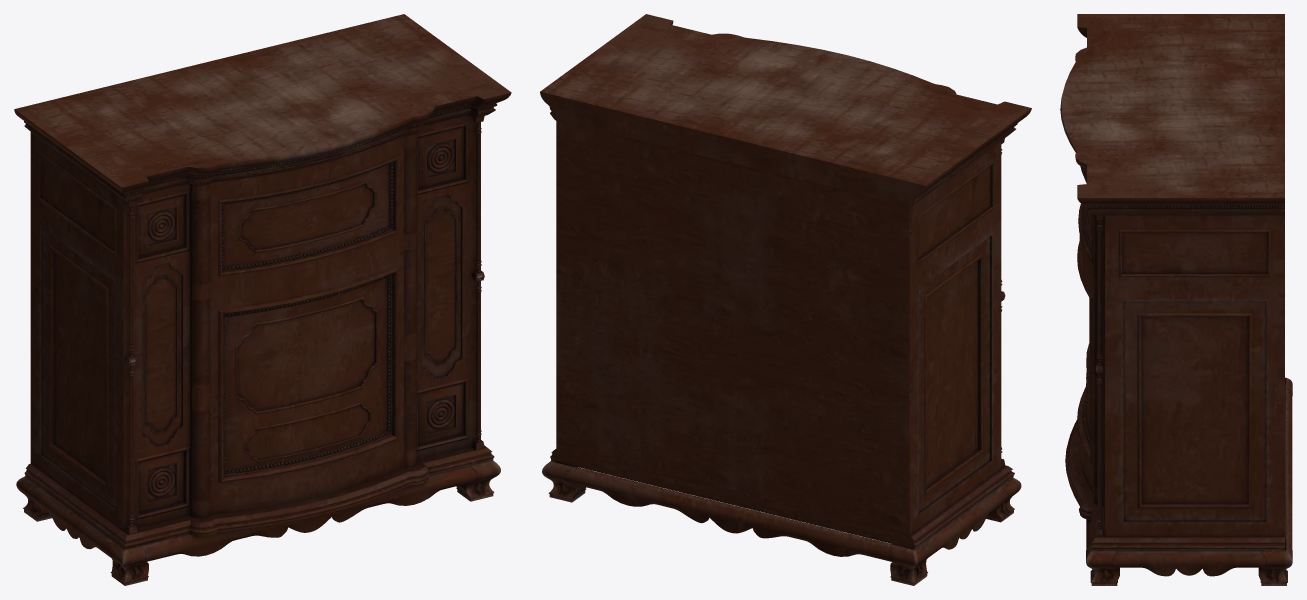
Rendered from tutho.glb.
3 renders of one model, left to right at view 1: azimuth 30°, elevation 25°; view 2: azimuth 150°, elevation 25°; view 3: azimuth 270°, elevation 25°, orthographic. The views are drawn at different scales.
Visible parts, largest first — view 1: Cube.011__0; view 2: Cube.011__0; view 3: Cube.011__0.
Boxes of the visible parts, x1,y1,x2,y2 form: Cube.011__0: (14, 14, 511, 585); Cube.011__0: (540, 14, 1031, 585); Cube.011__0: (1060, 14, 1292, 585).
Bounding box in the file's own units: 3.47 × 3.46 × 1.85.
Materials: 1 (1 with a texture image).
